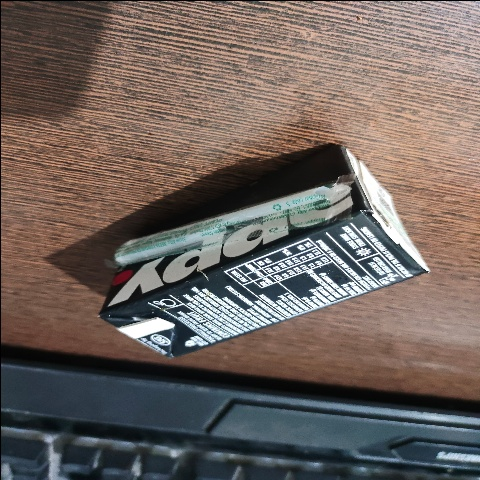appy: (105, 143, 435, 371)
